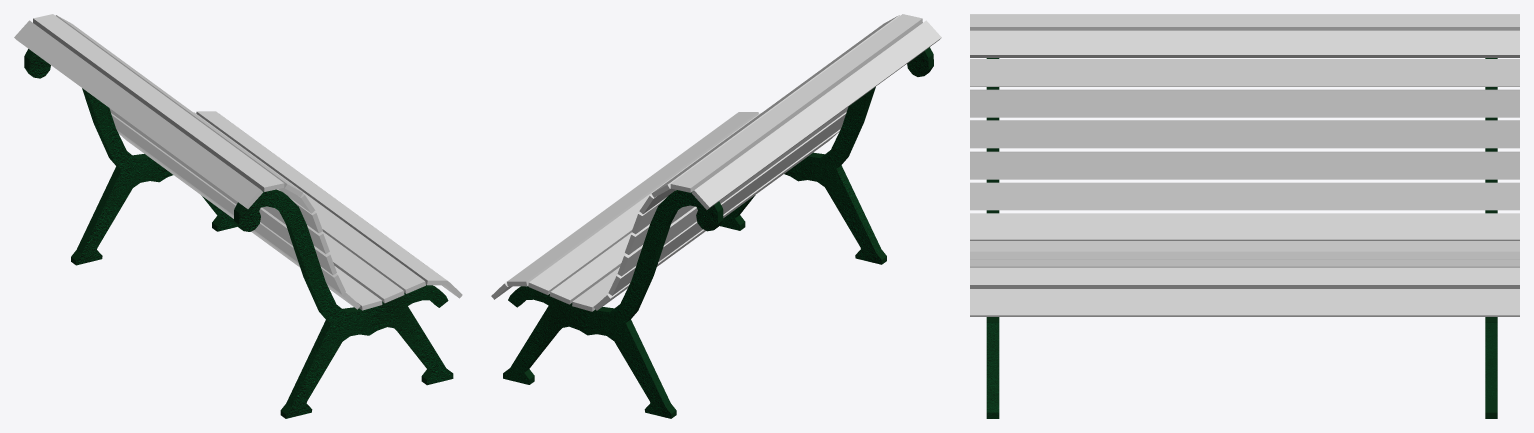
Rendered from SILLAgamer.fbx.
The picture shows the model from 3 angles, left to right: view 1: azimuth 30°, elevation 25°; view 2: azimuth 150°, elevation 25°; view 3: azimuth 270°, elevation 25°; orthographic projection. The views are drawn at different scales.
Parts seen in each view (by area): view 1: Curve; view 2: Curve; view 3: Curve.
Boxes of the visible parts, x1,y1,x2,y2 form: Curve: [14, 14, 462, 418]; Curve: [491, 14, 941, 418]; Curve: [970, 14, 1519, 418].
Bounding box in the file's own units: 126 × 135 × 232.
2 materials, 1 textured.
